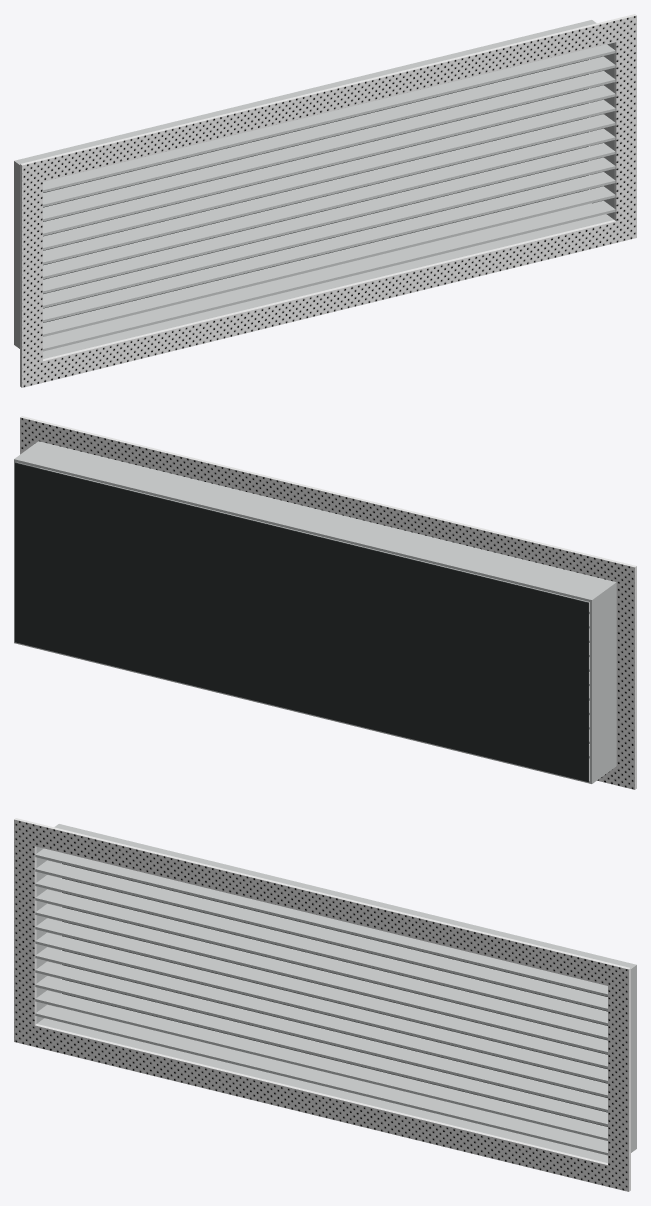
The model's file is ecoclima-ebls-500x150.glb.
3 renders of one model, top to bottom at view 1: azimuth 30°, elevation 25°; view 2: azimuth 150°, elevation 25°; view 3: azimuth 330°, elevation 25°, orthographic.
Visible parts, largest first — view 1: Profile_cornice.004, Profile_cornice.005, Profile_barra.014, Profile_barra.016, Profile_barra.011, Profile_barra.012, Profile_barra.015, Profile_barra.019, Profile_barra.010, Profile_barra.013, Profile_barra.018, Profile_barra.017 (+9 smaller); view 2: Interno.001, Profile_ritorno.004, Profile_cornice.004, Profile_ritorno.006, Profile_cornice.006, Profile_ritorno.005, Profile_barra.020, Profile_cornice.005; view 3: Profile_cornice.004, Profile_cornice.005, Profile_barra.014, Profile_barra.016, Profile_barra.011, Profile_barra.012, Profile_barra.015, Profile_barra.019, Profile_barra.010, Profile_barra.013, Profile_barra.018, Profile_barra.017 (+9 smaller).
Part boxes in pixels (x1,y1,x2,y2): Profile_cornice.004: (20, 14, 636, 186); Profile_cornice.005: (20, 216, 636, 387); Profile_barra.014: (43, 143, 615, 293); Profile_barra.016: (43, 114, 615, 264); Profile_barra.011: (43, 186, 615, 336); Profile_barra.012: (43, 172, 615, 322); Profile_barra.015: (43, 128, 615, 279); Profile_barra.019: (43, 71, 615, 221); Profile_barra.010: (43, 200, 615, 351); Profile_barra.013: (43, 157, 615, 308); Profile_barra.018: (43, 85, 615, 235); Profile_barra.017: (43, 99, 615, 250); Interno.001: (15, 462, 588, 782); Profile_ritorno.004: (14, 441, 616, 602); Profile_cornice.004: (20, 416, 636, 588); Profile_ritorno.006: (589, 585, 616, 781); Profile_cornice.006: (616, 585, 636, 768); Profile_ritorno.005: (14, 641, 616, 783); Profile_barra.020: (40, 468, 589, 614); Profile_cornice.005: (597, 764, 636, 789); Profile_cornice.004: (14, 818, 630, 990); Profile_cornice.005: (14, 1020, 630, 1191); Profile_barra.014: (35, 947, 607, 1097); Profile_barra.016: (35, 918, 607, 1068); Profile_barra.011: (35, 990, 607, 1140); Profile_barra.012: (35, 976, 607, 1126); Profile_barra.015: (35, 932, 607, 1083); Profile_barra.019: (35, 875, 607, 1025); Profile_barra.010: (35, 1004, 607, 1155); Profile_barra.013: (35, 961, 607, 1112); Profile_barra.018: (35, 889, 607, 1039); Profile_barra.017: (35, 903, 607, 1054).
Bounding box in the file's own units: 0.535 × 0.185 × 0.042.
3 materials, 1 textured.
